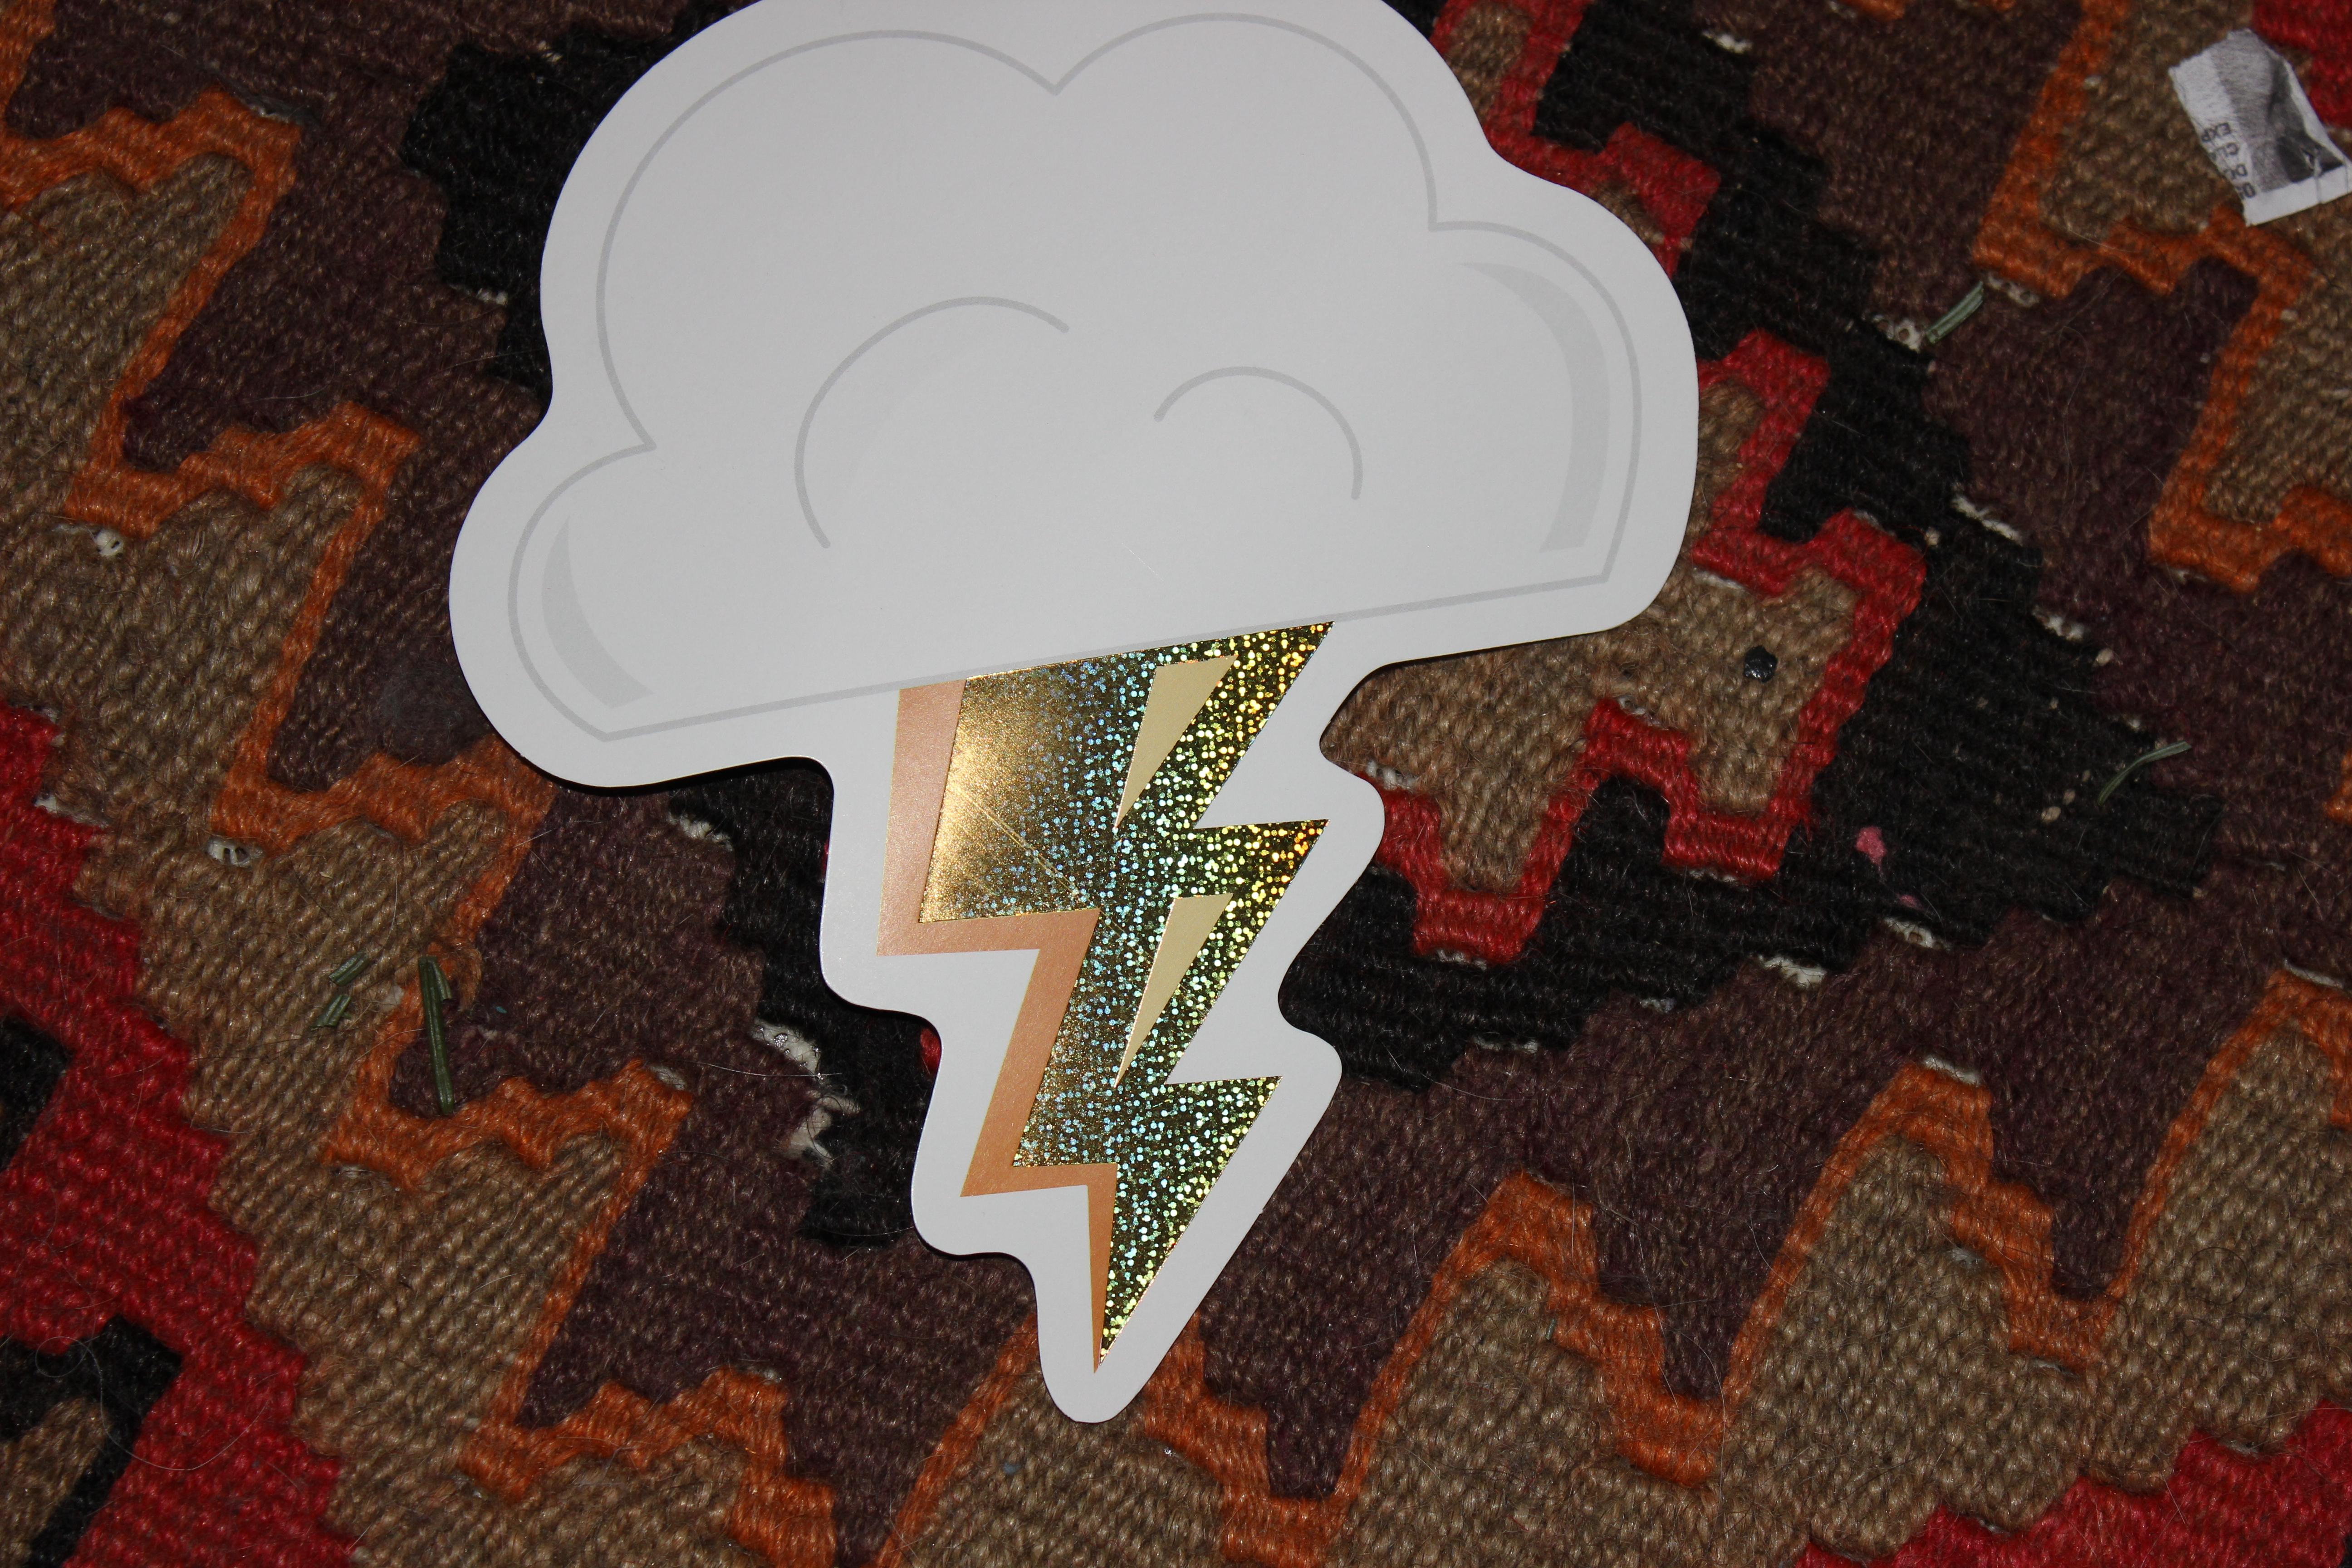cloudSign: (420, 0, 1738, 1456)
